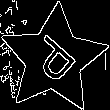P_SE: (23, 29, 84, 90)
